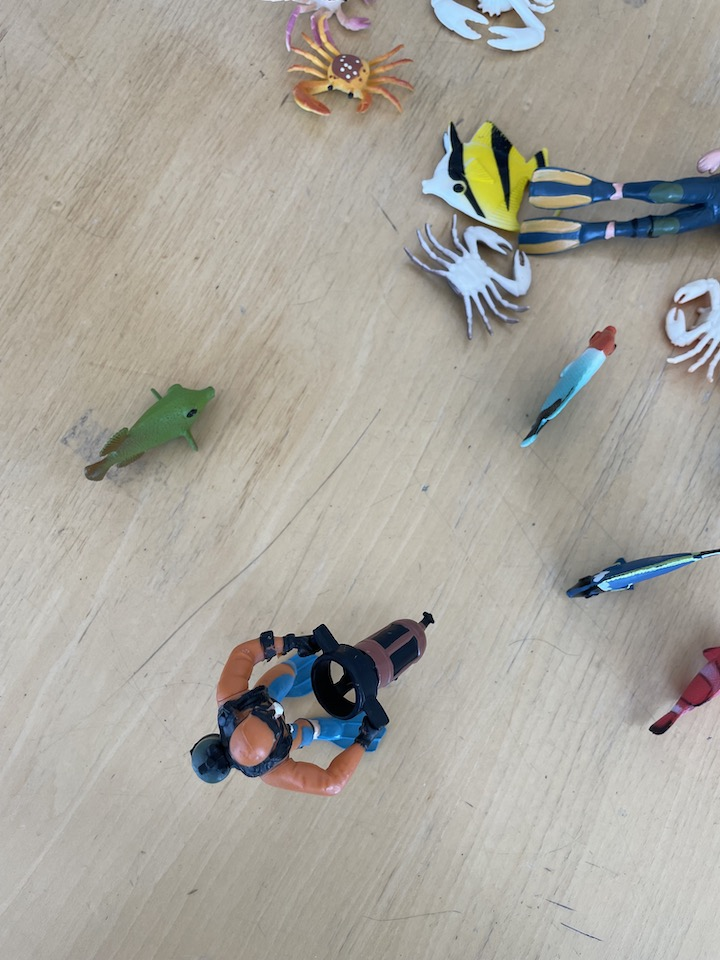crab: (400, 212, 535, 340), (286, 14, 416, 120), (424, 1, 559, 55), (660, 274, 720, 390), (274, 1, 380, 58)
danger: (417, 113, 554, 234)
diver: (187, 607, 437, 800), (500, 143, 720, 264)
fish: (79, 380, 220, 484), (514, 321, 623, 452), (559, 543, 720, 601), (645, 640, 720, 740)
